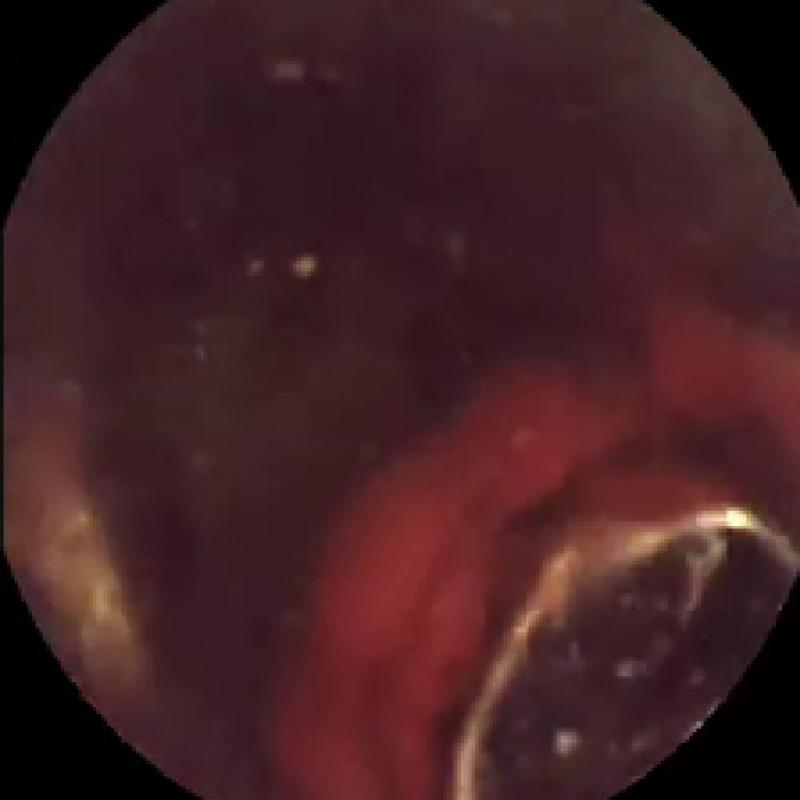bleeding: (278, 314, 796, 800)
